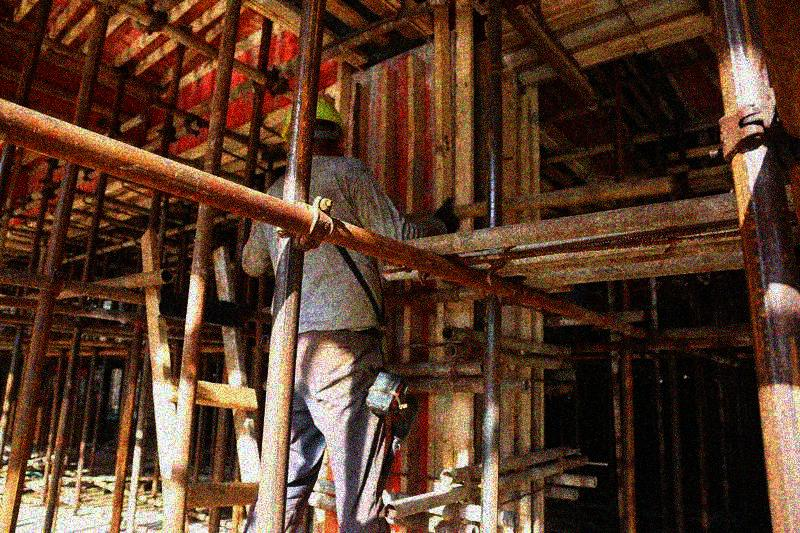helmet: (281, 98, 348, 161)
